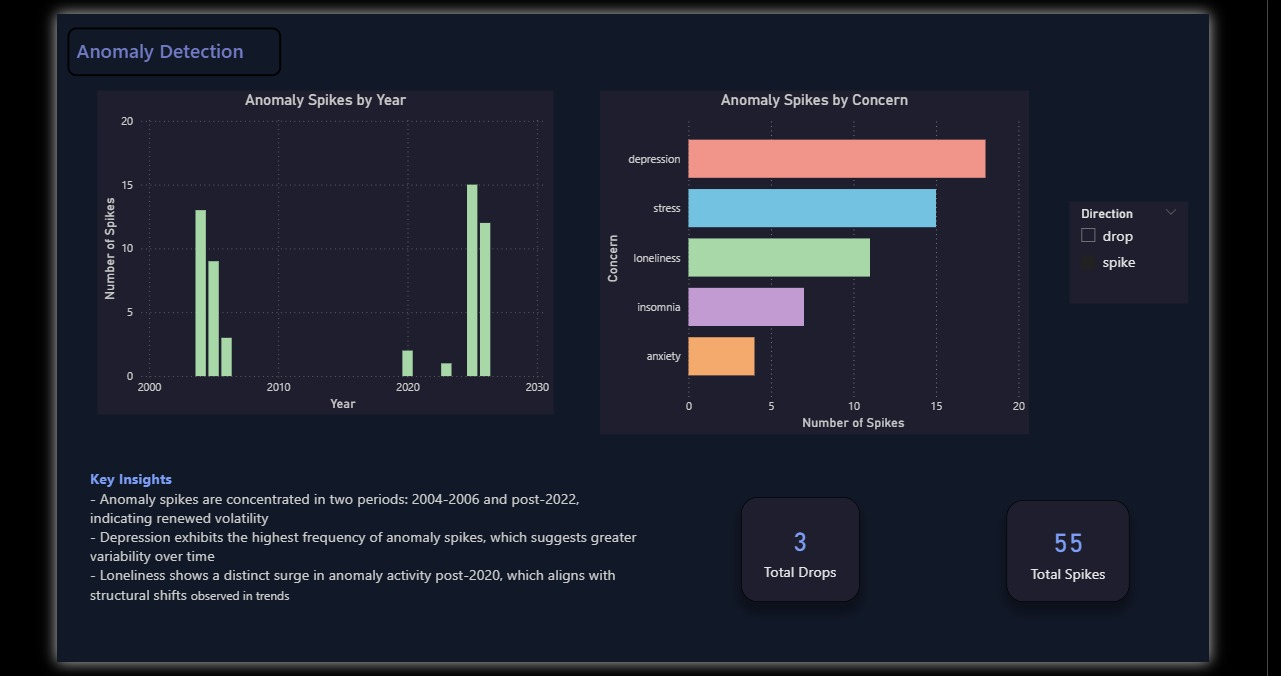

What the dashboard file says about the page in this screenshot:
{"tool":"powerbi","page":{"name":"Anomalies","canvas":[1280,720],"ordinal":2},"visuals":[{"type":"card","fields":{"Values":["_Measures.Total Spikes"]},"box":[1055,540,136.7,113.3],"z":0},{"type":"card","fields":{"Values":["_Measures.Total Drops"]},"box":[760,536.7,131.7,116.7],"z":1000},{"type":"slicer","fields":{"Values":["powerbi_anomalies.direction"]},"box":[1125,208.3,131.7,113.3],"z":2000},{"type":"textbox","box":[11.1,14.3,237,54.1],"z":3000},{"type":"textbox","box":[31.7,500,623.3,200],"z":4000},{"type":"clusteredBarChart","title":"Anomaly Spikes by Concern","fields":{"Category":["powerbi_anomalies.concern"],"Y":["CountNonNull(powerbi_anomalies.date)"]},"box":[603.3,85,476.7,381.7],"z":5000},{"type":"clusteredColumnChart","title":"Anomaly Spikes by Year","fields":{"Y":["CountNonNull(powerbi_anomalies.date)"],"Category":["powerbi_anomalies.Year"]},"box":[45,85,506.7,360],"z":6000}]}

Visuals, with their boxes on the page's 1280x720 design canvas (x1, y1, x2, y2). These are canvas units, not pixel positions in the 1281x676 screenshot, which may show the page scaled, cropped or inside an application window:
card - _Measures.Total Spikes: (x1=1055, y1=540, x2=1192, y2=653)
card - _Measures.Total Drops: (x1=760, y1=537, x2=892, y2=653)
slicer - powerbi_anomalies.direction: (x1=1125, y1=208, x2=1257, y2=322)
textbox: (x1=11, y1=14, x2=248, y2=68)
textbox: (x1=32, y1=500, x2=655, y2=700)
"Anomaly Spikes by Concern" clusteredBarChart: (x1=603, y1=85, x2=1080, y2=467)
"Anomaly Spikes by Year" clusteredColumnChart: (x1=45, y1=85, x2=552, y2=445)
